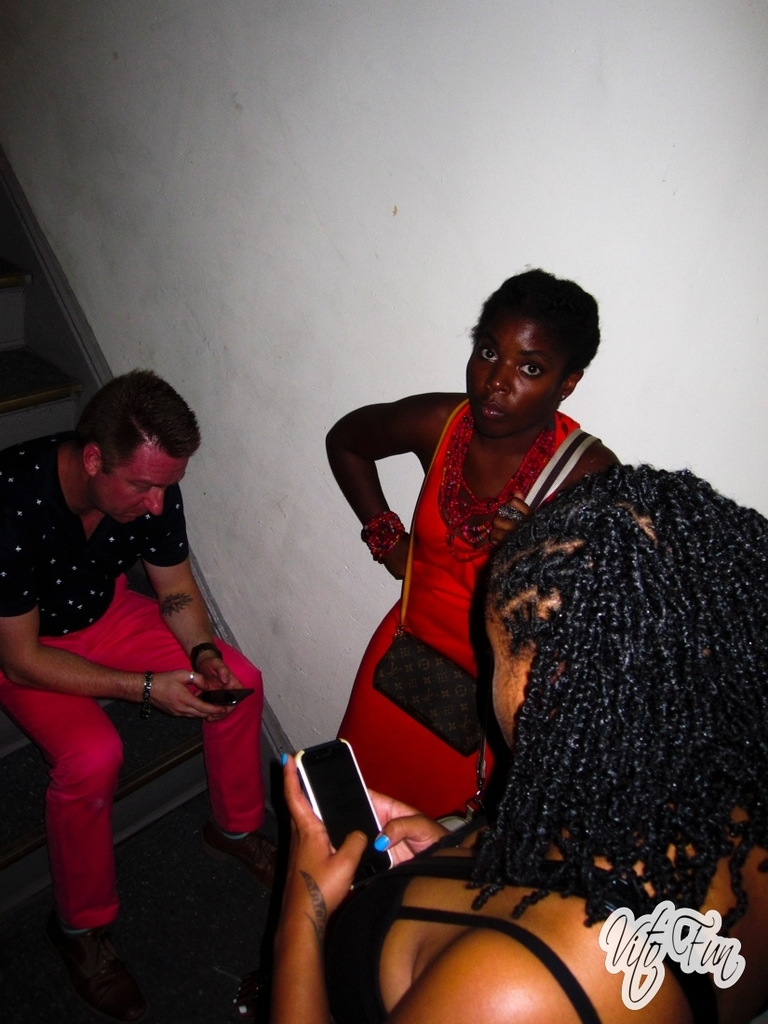Mobile-phone: (293, 736, 391, 899), (197, 680, 250, 706)
